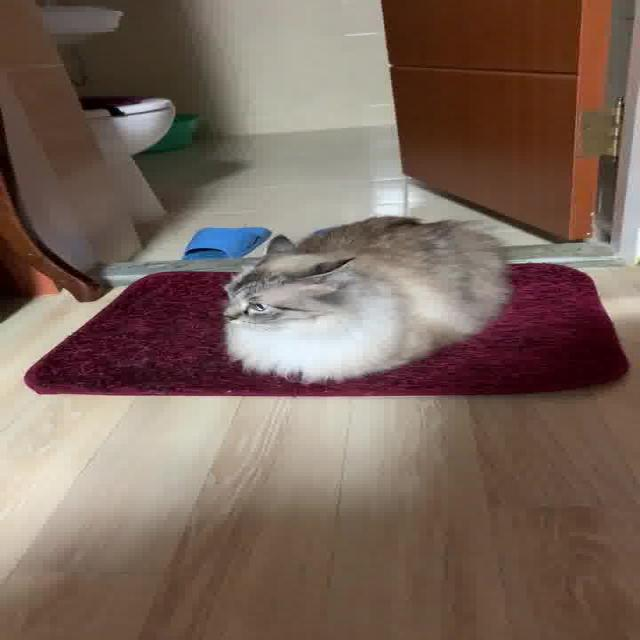cat: (197, 215, 548, 393)
